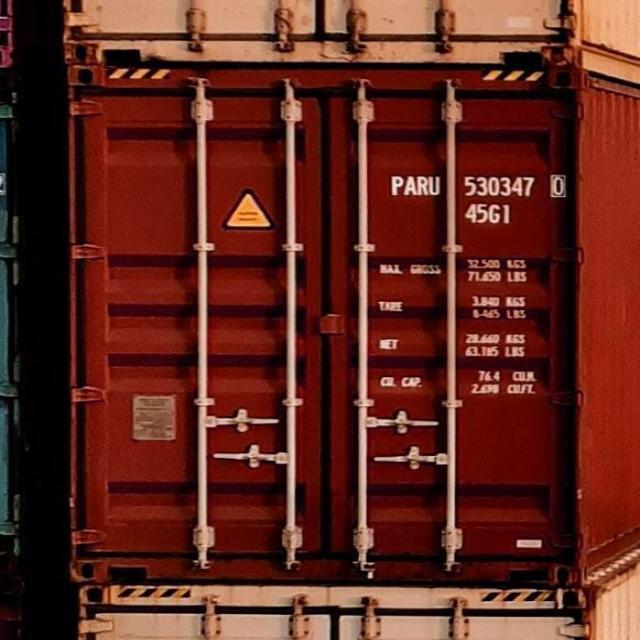ISO: (466, 202, 514, 224)
container_number: (396, 172, 566, 200)
